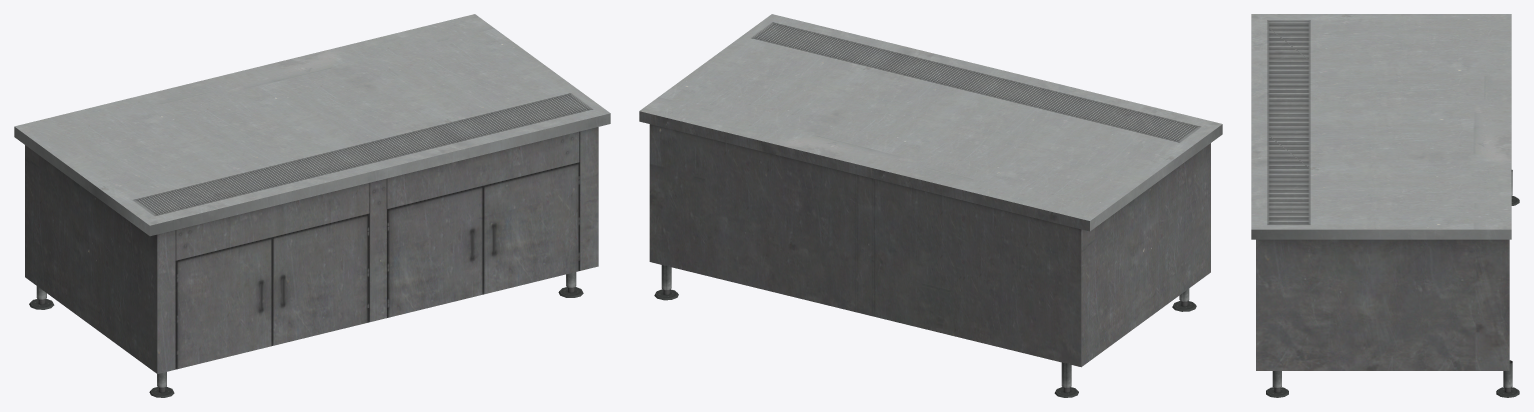
The model's file is drinkBar.fbx.
3 renders of one model, left to right at view 1: azimuth 30°, elevation 25°; view 2: azimuth 150°, elevation 25°; view 3: azimuth 270°, elevation 25°, orthographic. The views are drawn at different scales.
Parts seen in each view (by area): view 1: pCube11; view 2: pCube11; view 3: pCube11, pCylinder199, pCylinder200.
Boxes of the visible parts, <box> form: pCube11: <box>14,14,610,373</box>; pCube11: <box>639,14,1222,367</box>; pCube11: <box>1251,14,1511,370</box>; pCylinder199: <box>1496,360,1519,397</box>; pCylinder200: <box>1266,371,1288,397</box>.
Size of the model in its own units: 11.67 by 4.43 by 6.13.
